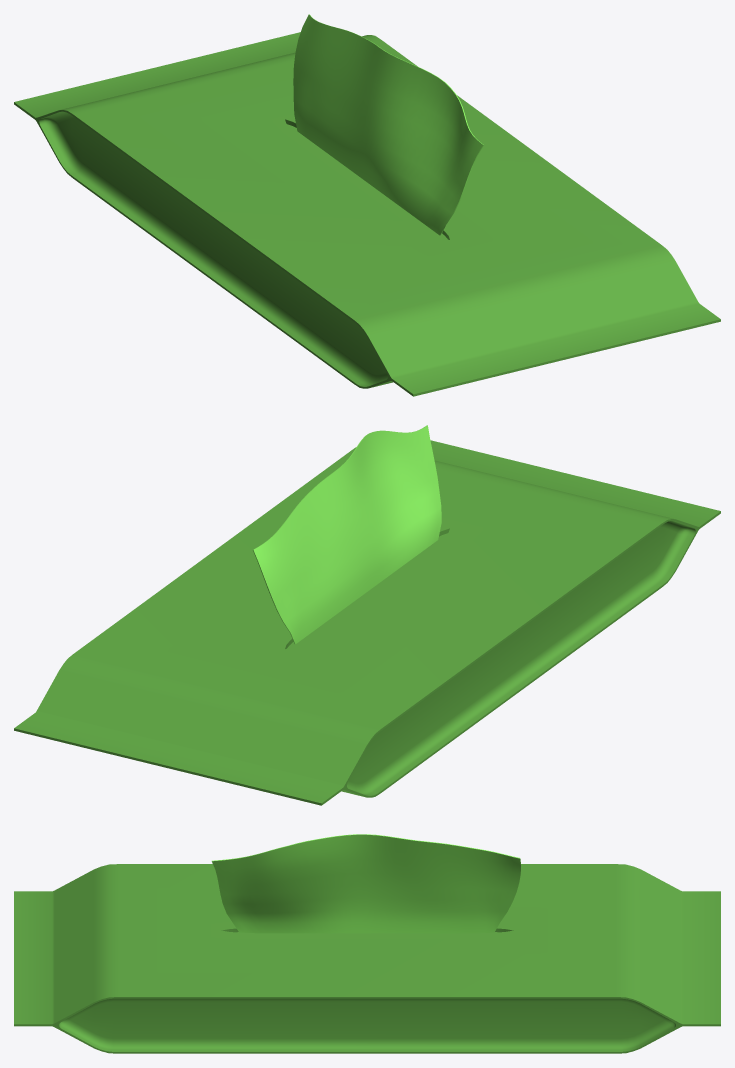
File: alcohol wipe case (open).fbx
3 renders of one model, top to bottom at view 1: azimuth 30°, elevation 25°; view 2: azimuth 150°, elevation 25°; view 3: azimuth 270°, elevation 25°, orthographic. The views are drawn at different scales.
Visible parts, largest first — view 1: alcohol wipe.003, wipe 3.001; view 2: alcohol wipe.003, wipe 3.001; view 3: alcohol wipe.003, wipe 3.001.
Part boxes in pixels (x1=…): alcohol wipe.003: x1=14, y1=32, x2=720, y2=396; wipe 3.001: x1=293, y1=14, x2=483, y2=235; alcohol wipe.003: x1=14, y1=440, x2=720, y2=805; wipe 3.001: x1=253, y1=425, x2=441, y2=644; alcohol wipe.003: x1=14, y1=864, x2=720, y2=1053; wipe 3.001: x1=211, y1=834, x2=521, y2=933.
Size of the model in its own units: 0.0723 by 0.0415 by 0.1626.
